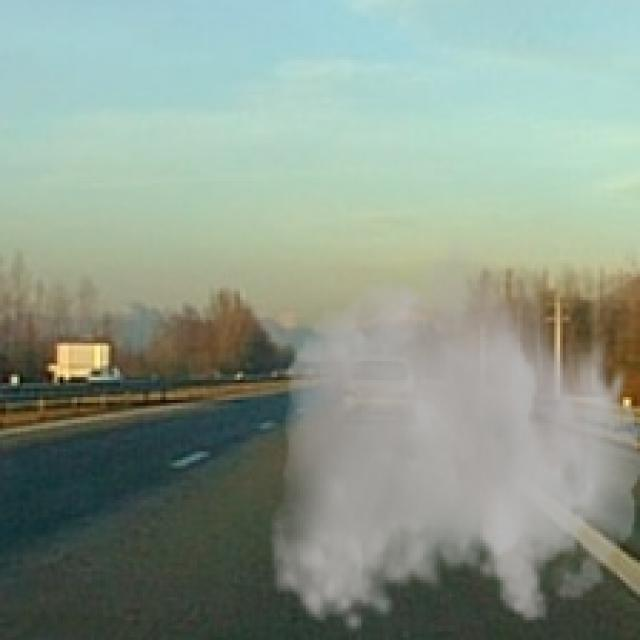smoke: (269, 226, 637, 637)
